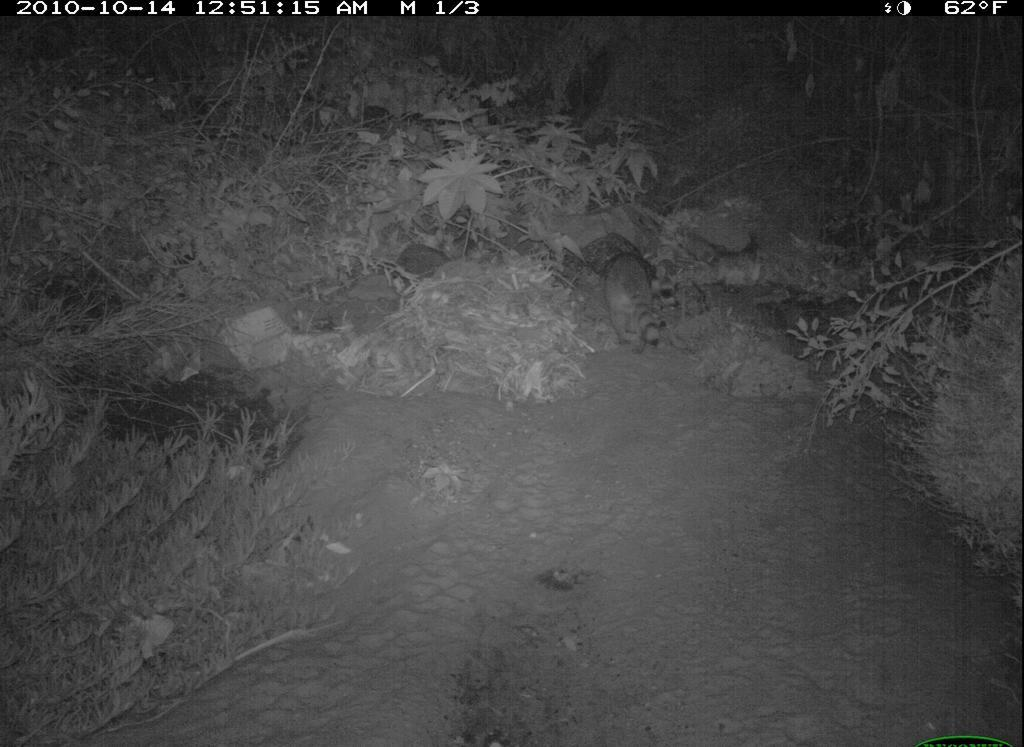raccoon: (589, 236, 689, 370)
